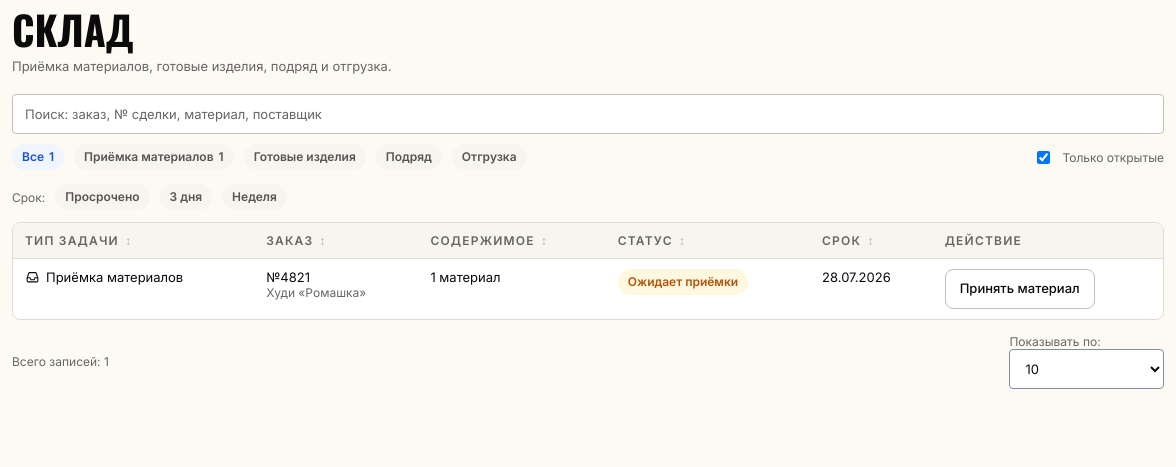
Scenario: «Склад»: три состояния экрана › задачи есть, но подбор их отсеял — другой текст и кнопка сброса
# Поиск, под который не подходит ни одна задача
Type "zzz" into the search field named "Поиск задач склада". click: (588, 114)
box: 12,94 -> 1164,134
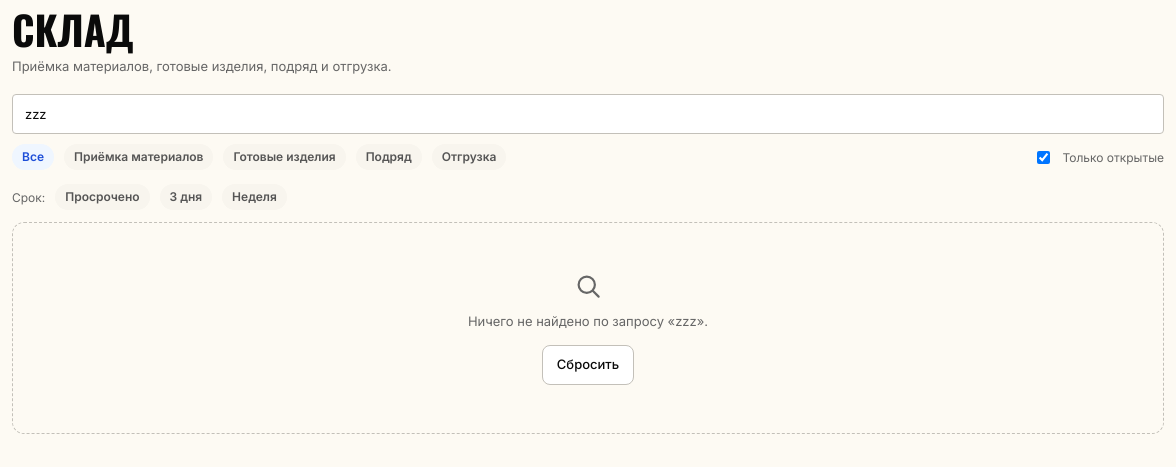
Expected: the text "Ничего не найдено по запросу «zzz»." is shown, 468,313 -> 708,329
Click the button "Сбросить". click: (588, 365)
box: 542,345 -> 634,385
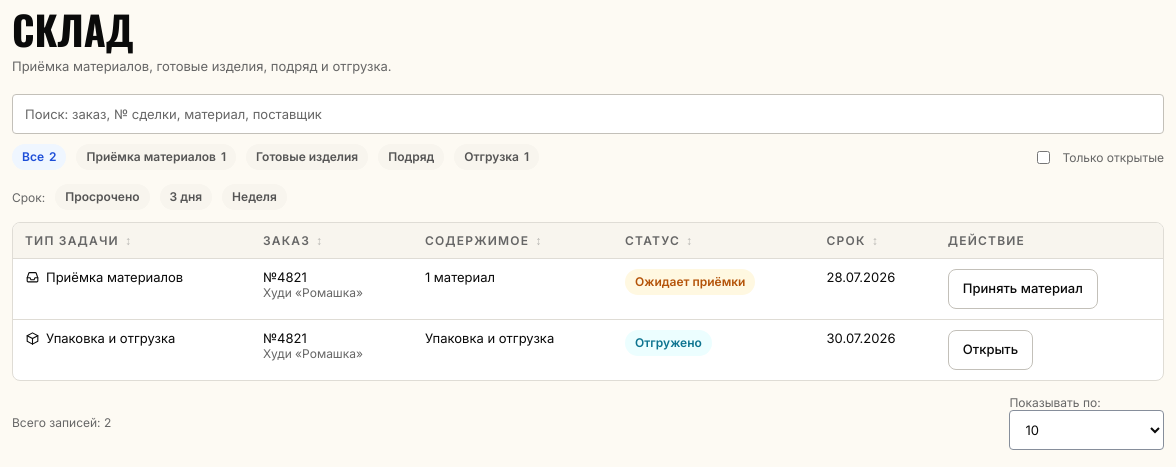
Expected: the number of rows is 3, 13,223 -> 1163,258; 13,258 -> 1163,320; 13,320 -> 1163,380
Expected: the row that starts with "Упаковка и отгрузка" is shown, 46,330 -> 175,346
